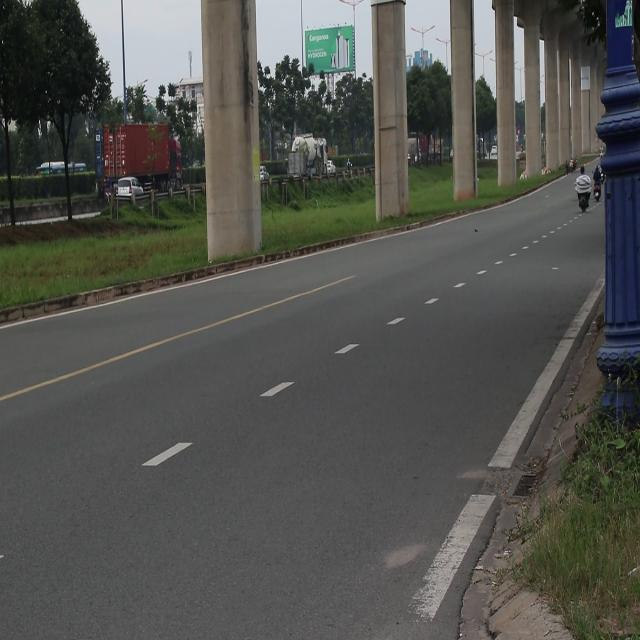car: (110, 178, 151, 202), (36, 162, 88, 176), (36, 163, 66, 176)
motorbike: (571, 185, 592, 221), (593, 181, 605, 215)
truck: (105, 124, 184, 193), (287, 138, 311, 181)
